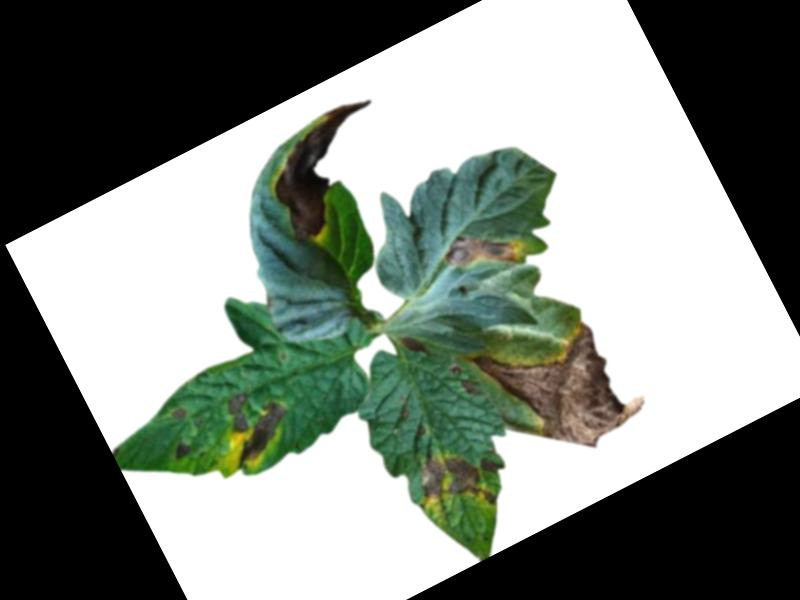Early_blight: (467, 291, 652, 479), (249, 89, 416, 244), (208, 373, 302, 469), (409, 436, 499, 531), (439, 209, 533, 293), (448, 356, 486, 404), (398, 327, 431, 363), (165, 435, 195, 465), (476, 448, 505, 479), (171, 403, 189, 420)
